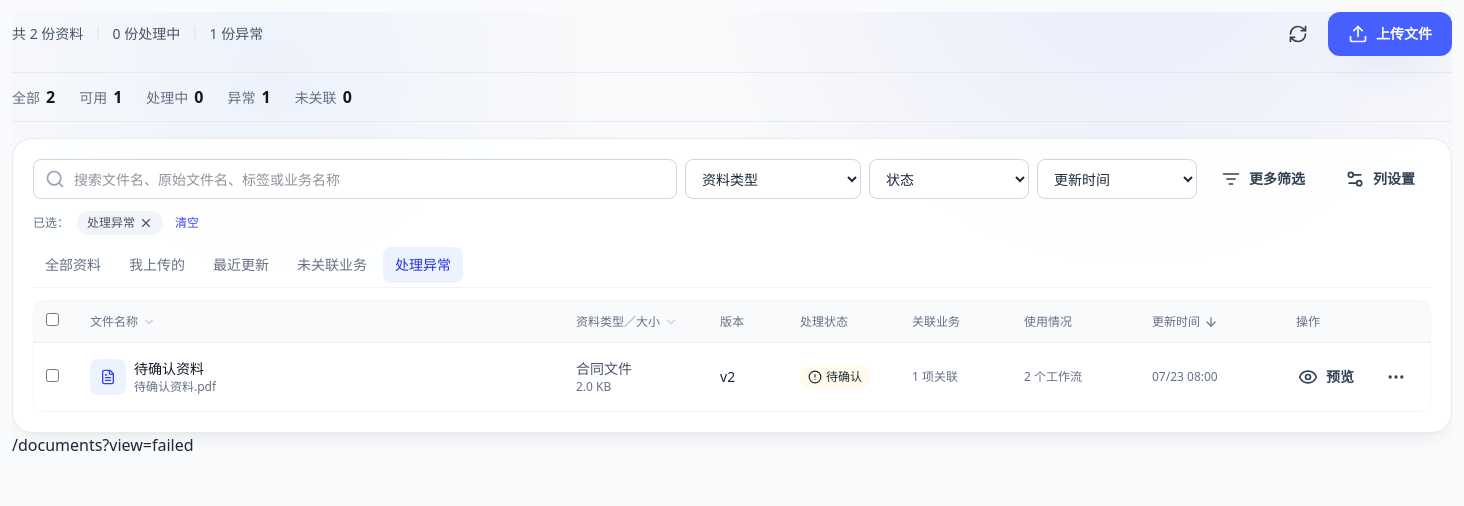
Test: business document library › initializes the failed view from the URL and keeps view selection in sync
Check: the text "待确认资料" is shown, box [134,359,216,379]
Check: the text "采购合同.pdf" is not shown
Click the button "全部资料" at (73, 265), box [33,247,113,283]
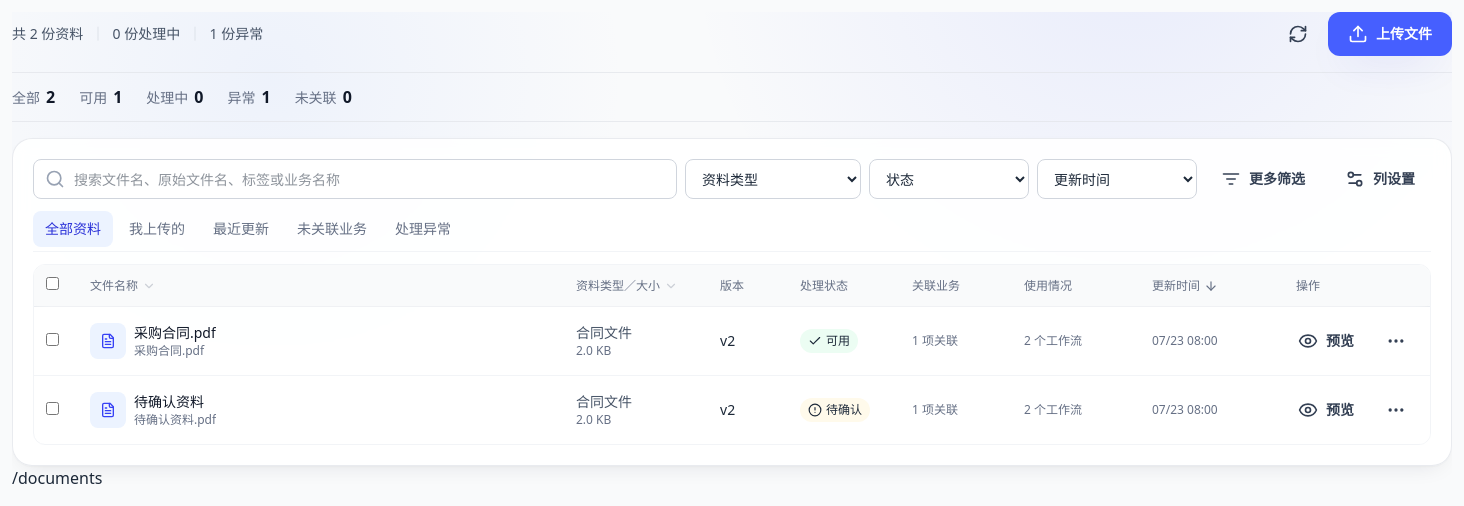
Check: the text with test id "location" reads "/documents", box [12,467,102,489]
Check: the text with test id "location" no longer shows "view=", box [12,467,102,489]
